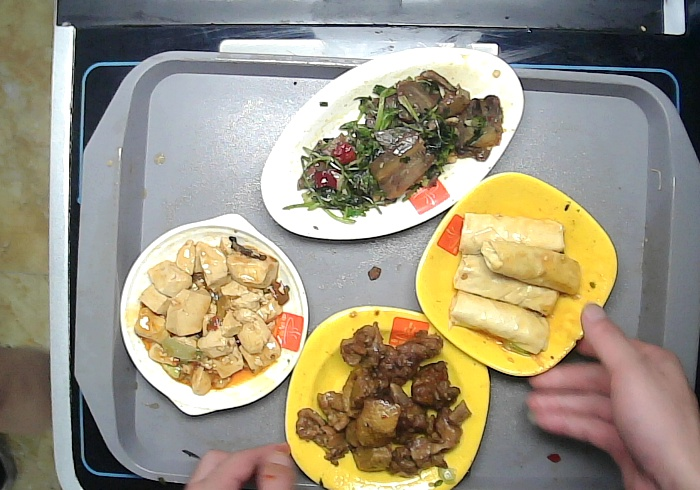SHKJ-Bao_Yu_Pan: (119, 213, 310, 416)
SHKJ-Huang_Se_Cai_Die: (415, 171, 620, 378)
SHKJ-Huang_Se_Si_Fang_Cai_Die: (284, 303, 490, 490)
SHKJ-Yu_Pan: (261, 46, 527, 239)
